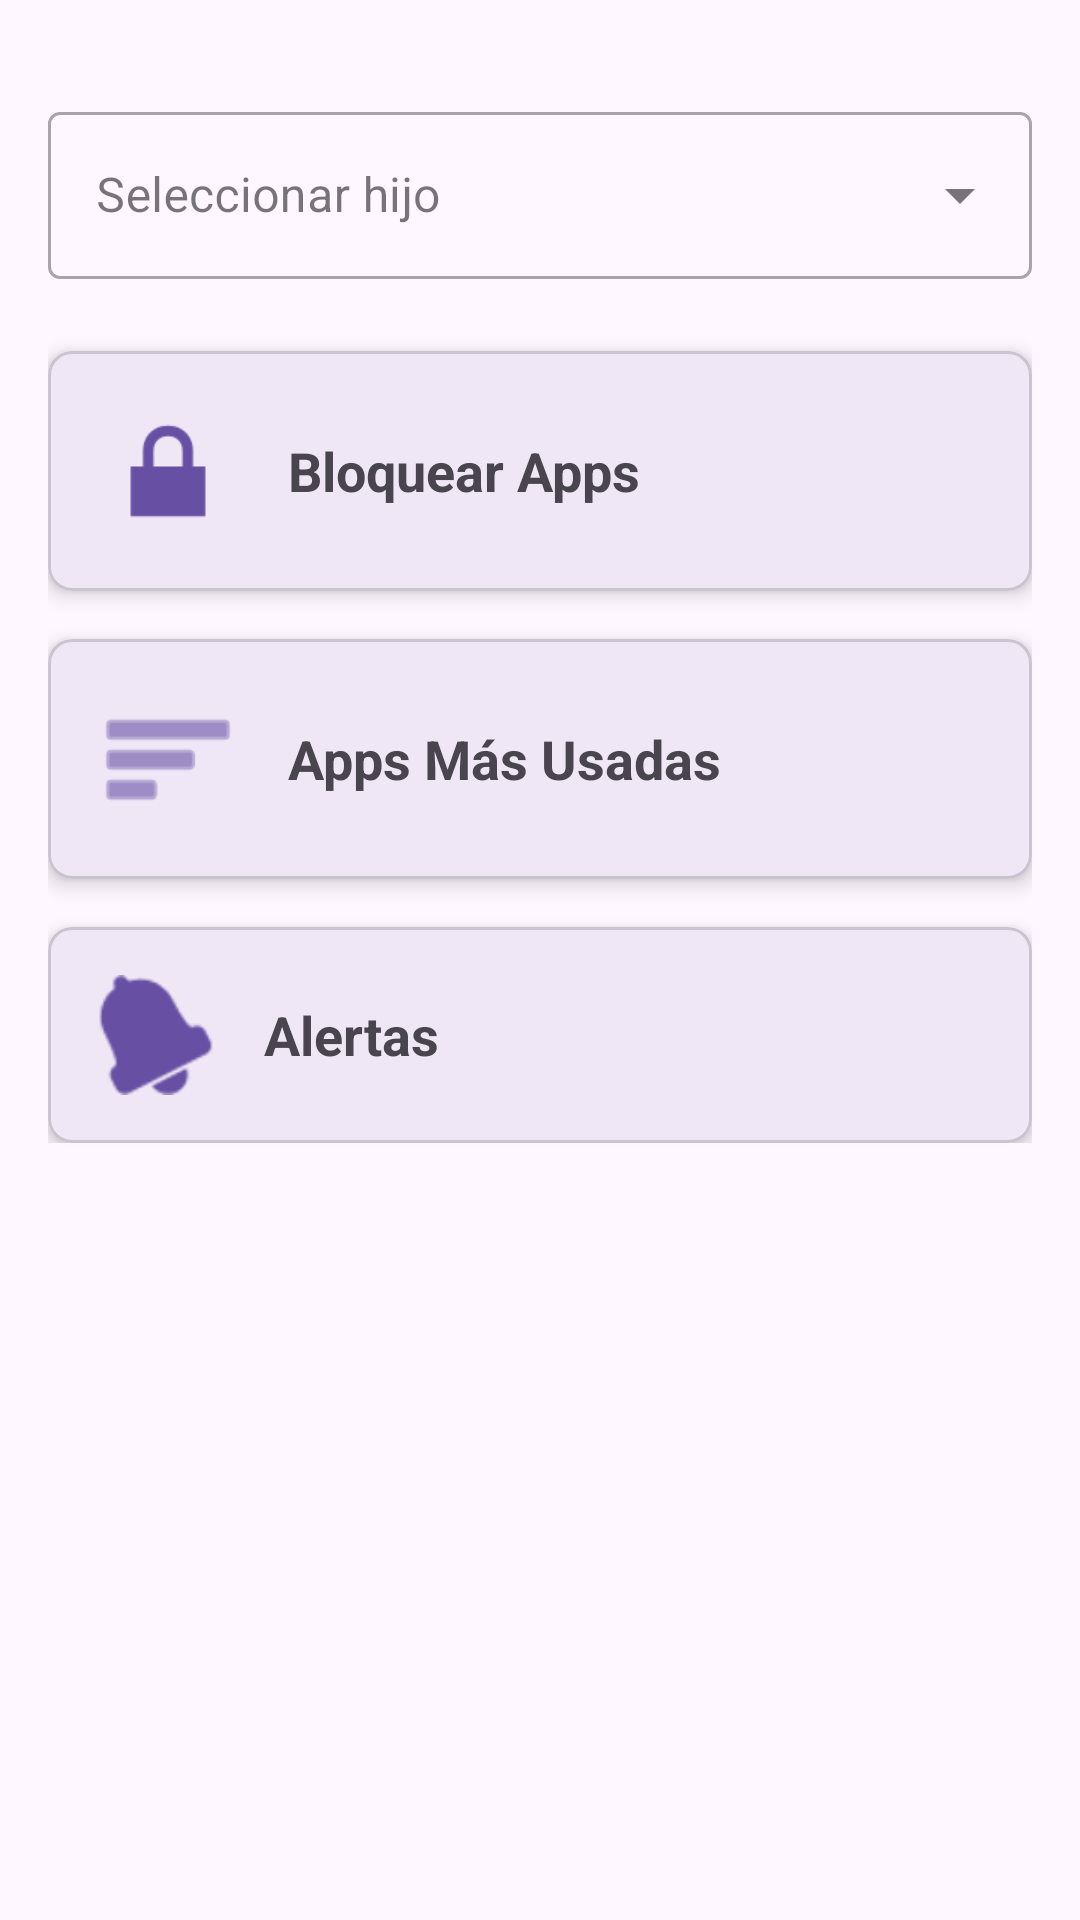

Screen size 1080 x 1920. Icon name, then its center in pixels as (x=x, y=y):
lock: (x=168, y=471)
popup reminder: (x=156, y=1035)
sort by size: (x=168, y=760)
